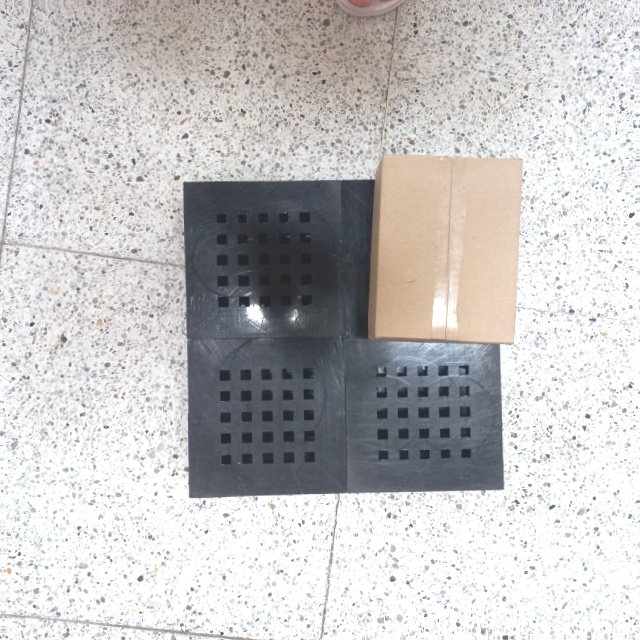box: (367, 151, 521, 344)
pallet: (179, 173, 512, 501)
